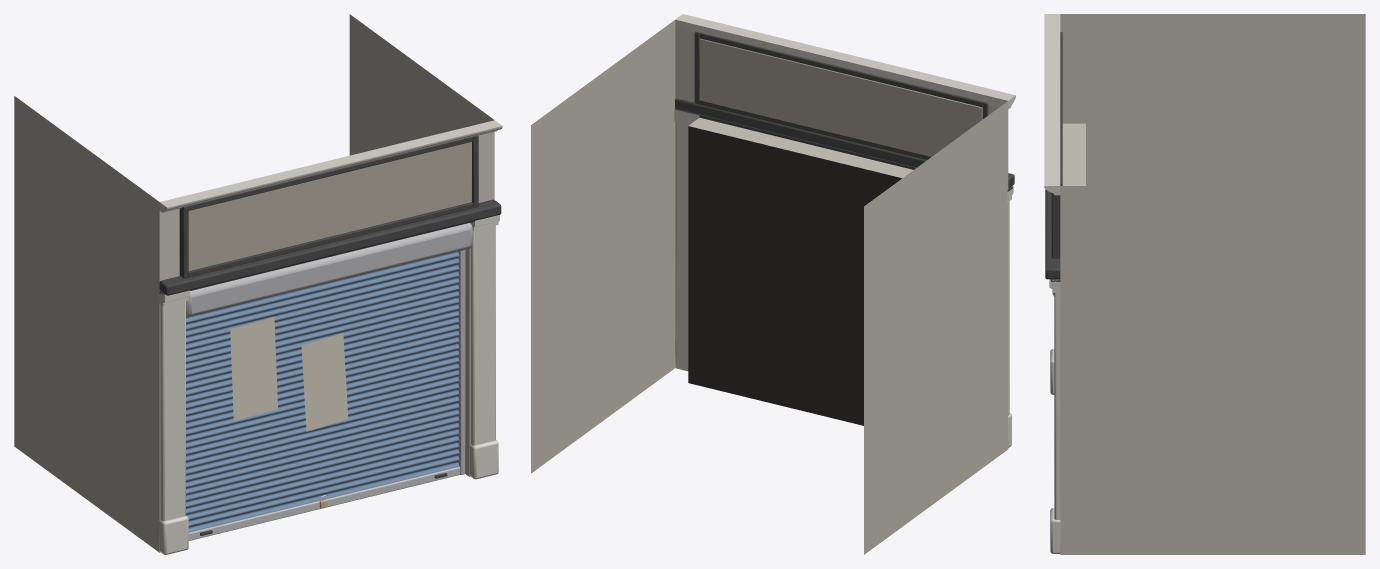
File: shuttered_4a.glb
3 renders of one model, left to right at view 1: azimuth 30°, elevation 25°; view 2: azimuth 150°, elevation 25°; view 3: azimuth 270°, elevation 25°, orthographic. The views are drawn at different scales.
Visible parts, largest first — view 1: shuttered_4a; view 2: shuttered_4a; view 3: shuttered_4a.
Boxes of the visible parts, left/top/right/bottom form: shuttered_4a: left=14, top=14, right=502, bottom=554; shuttered_4a: left=531, top=14, right=1015, bottom=554; shuttered_4a: left=1044, top=14, right=1365, bottom=554.
Bounding box in the file's own units: 4 × 4 × 3.16.
